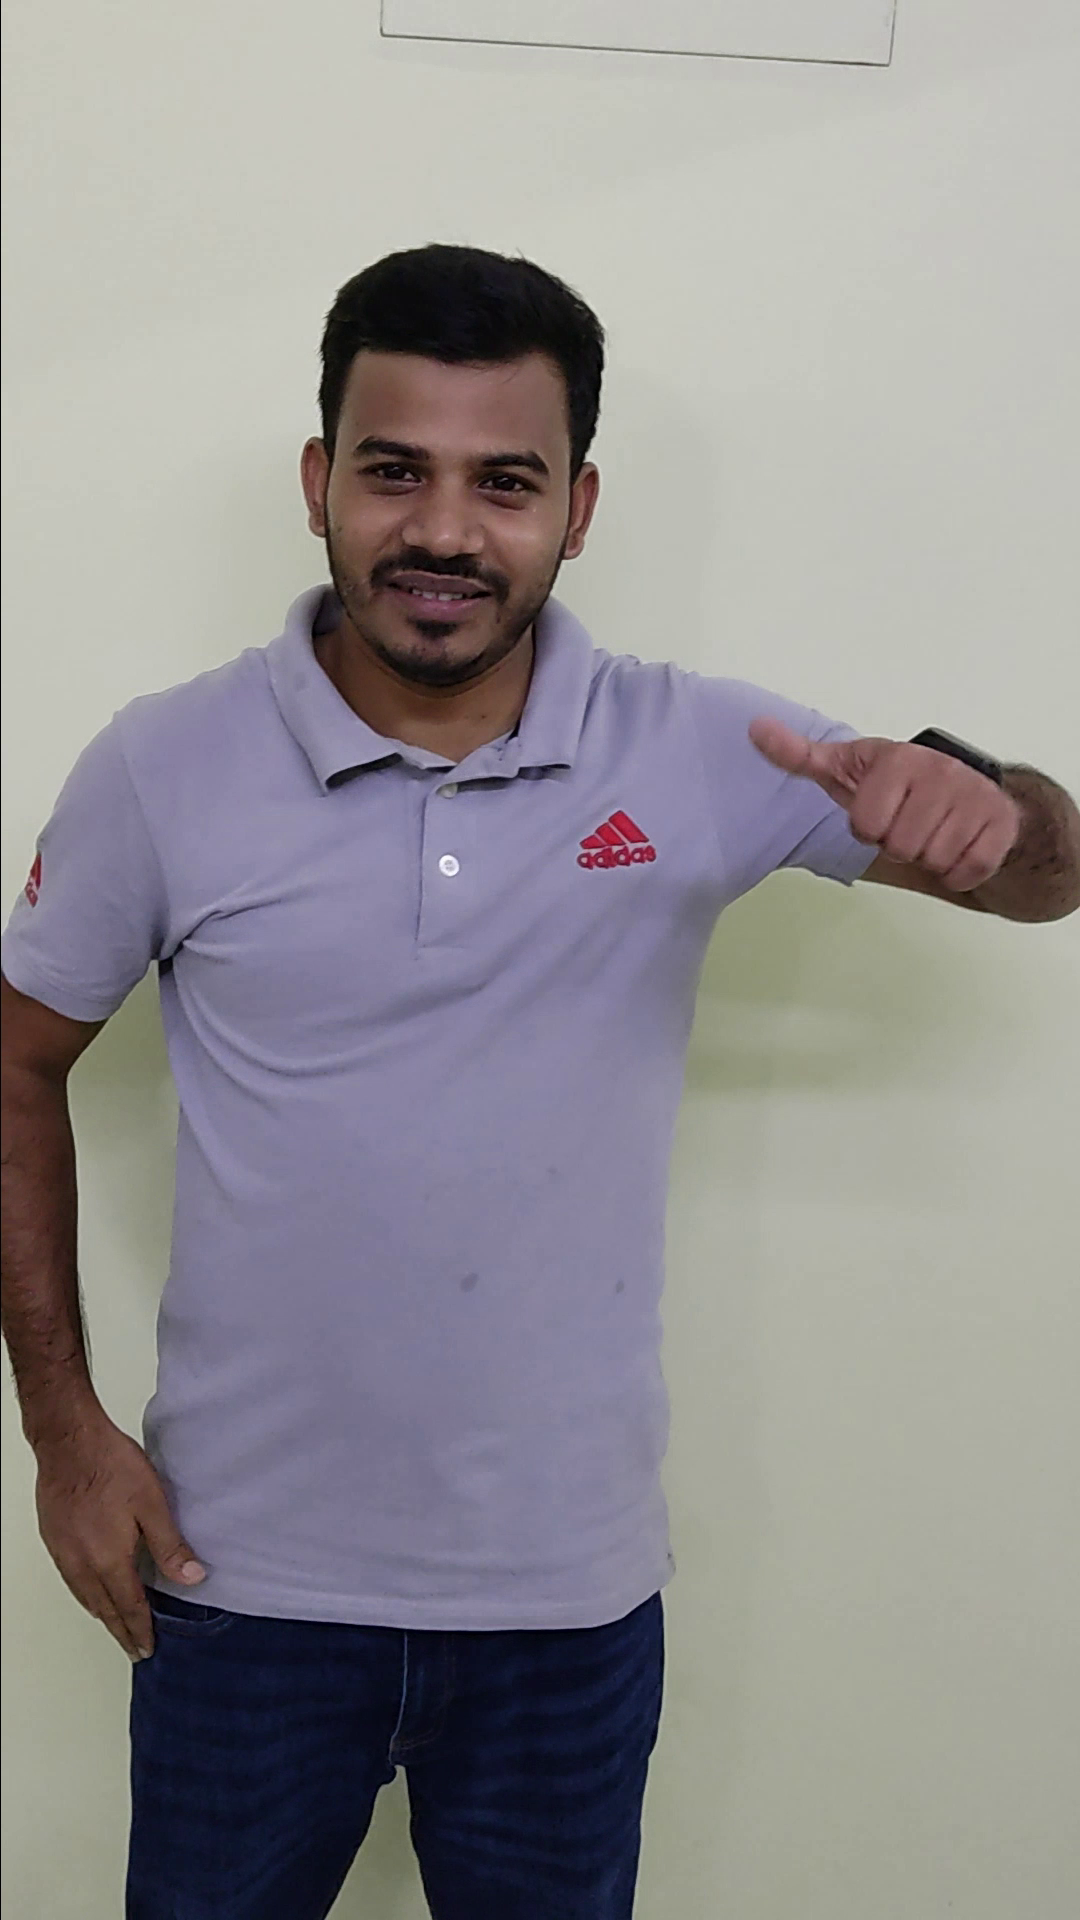Like: (738, 673, 1018, 957)
None: (20, 1391, 231, 1680)
